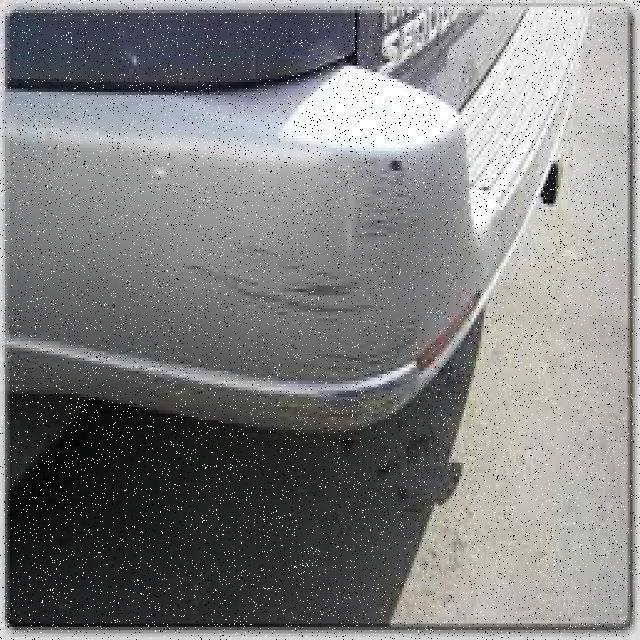rear-bumper-dent: (12, 66, 578, 437)
